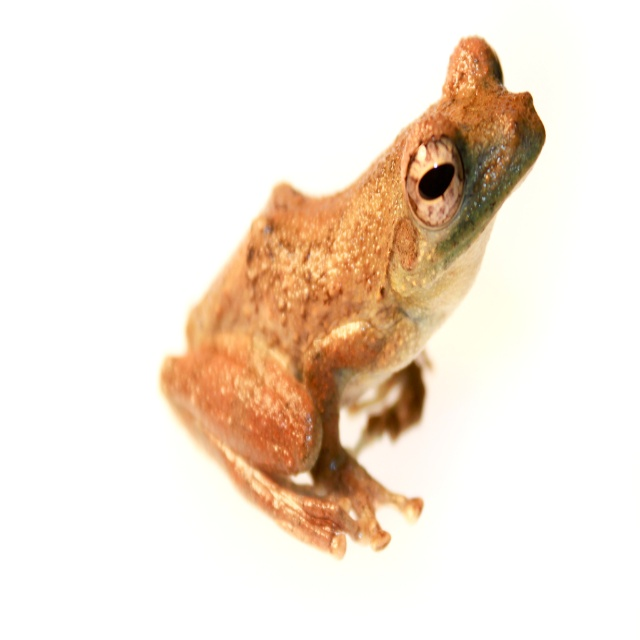Frog: (158, 34, 547, 560)
